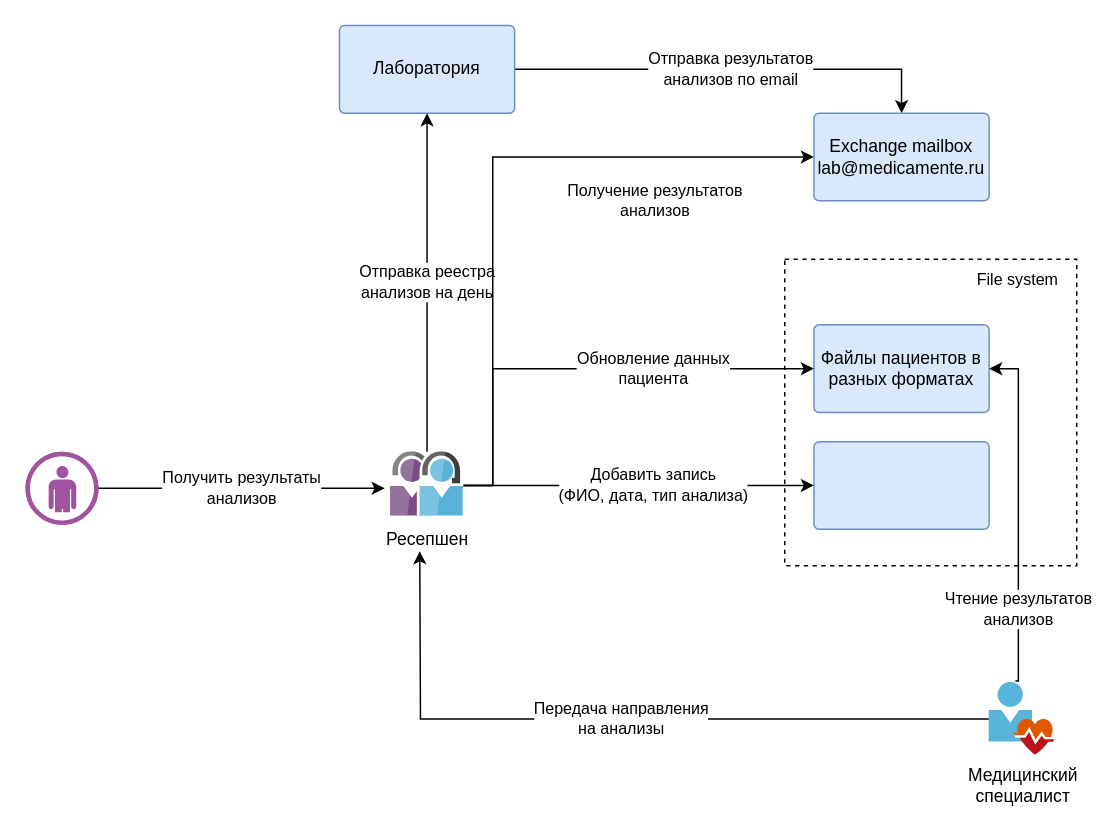
The diagram is 1117 pixels wide and 834 high, and some of its shapes have lost their labels. The centre of each missing label's shape, as x and y in pixels:
"Пациент" belongs at (x=61, y=487).
"Реестр анализов за день" belongs at (x=900, y=484).
